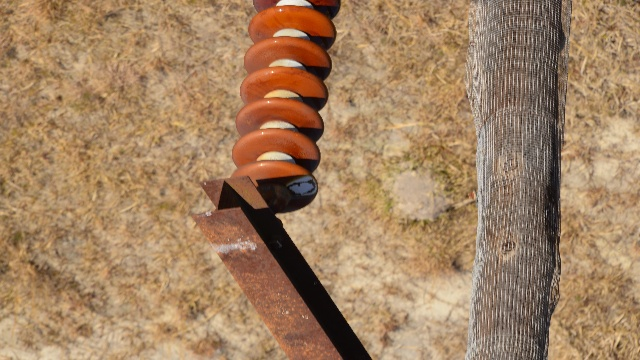insulator_unspecified: (226, 0, 341, 214)
pollution_flashover_local: (289, 175, 320, 199)
